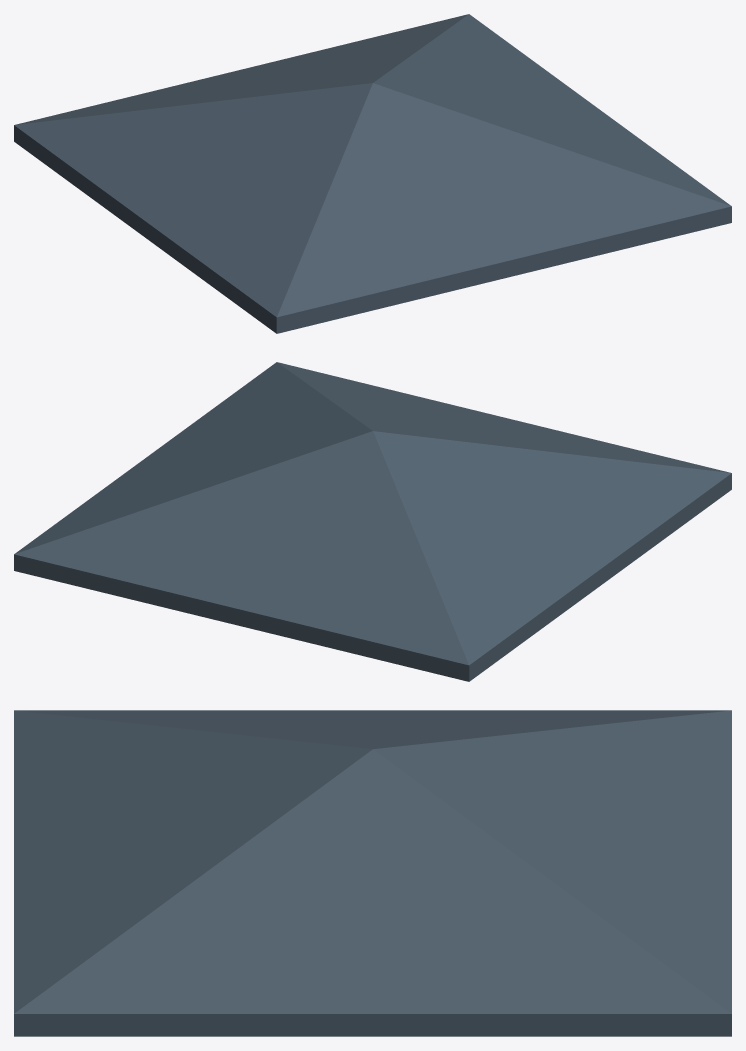
File: eave-broad.glb
3 renders of one model, top to bottom at view 1: azimuth 30°, elevation 25°; view 2: azimuth 150°, elevation 25°; view 3: azimuth 270°, elevation 25°, orthographic. The views are drawn at different scales.
Parts seen in each view (by area): view 1: eave-broad; view 2: eave-broad; view 3: eave-broad.
Part boxes in pixels (x1,y1,x2,y2): eave-broad: [14, 14, 731, 333]; eave-broad: [14, 362, 731, 681]; eave-broad: [14, 710, 731, 1036].
Size of the model in its own units: 1.44 by 0.36 by 1.44.
